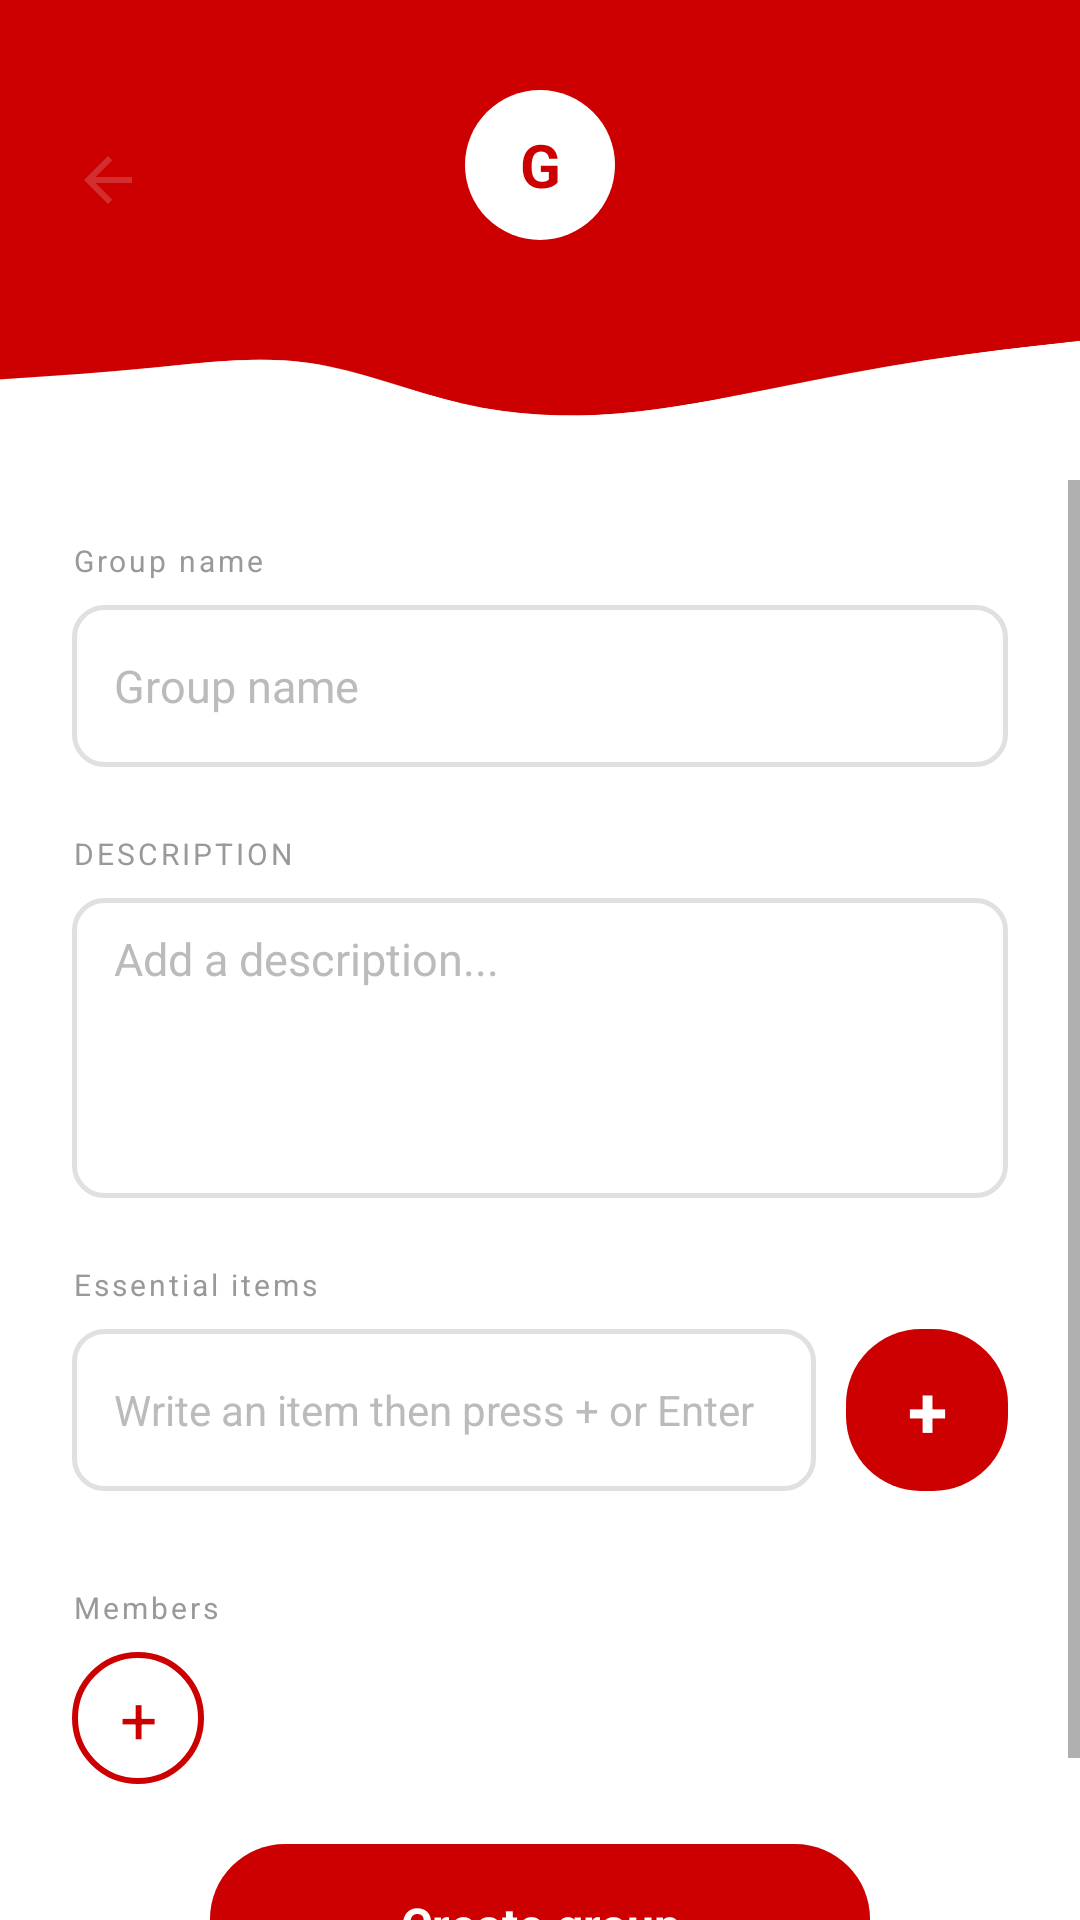

Icon click points for this 1080w x 1920h phone screenshot, format [x,y]:
Back: [108,180]
